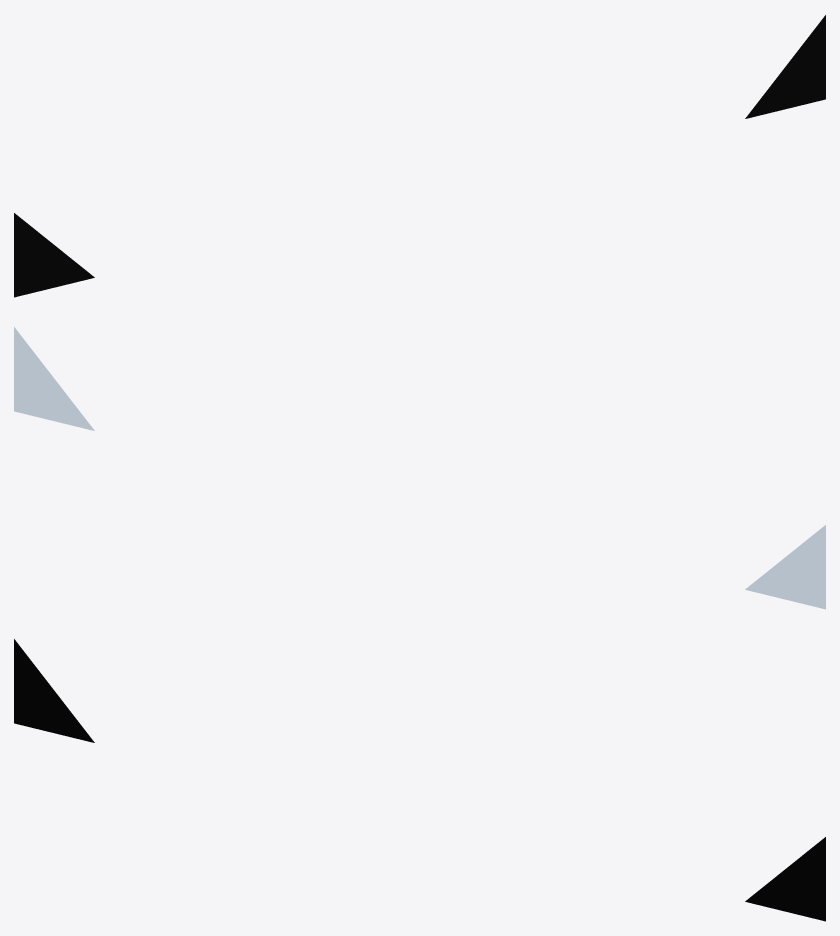
Rendered from gltf_model_cooker_fixture.gltf.
3 renders of one model, top to bottom at view 1: azimuth 30°, elevation 25°; view 2: azimuth 150°, elevation 25°; view 3: azimuth 330°, elevation 25°, orthographic.
Visible parts, largest first — view 1: Mirrored disconnected instance, Original; view 2: Mirrored disconnected instance, Original; view 3: Original, Mirrored disconnected instance.
Part boxes in pixels (left/top/right/bottom): Mirrored disconnected instance: left=745, top=15, right=825, bottom=118; Original: left=14, top=213, right=94, bottom=297; Mirrored disconnected instance: left=14, top=327, right=94, bottom=430; Original: left=745, top=525, right=825, bottom=609; Original: left=14, top=639, right=94, bottom=742; Mirrored disconnected instance: left=745, top=837, right=825, bottom=921.
Bounding box in the file's own units: 10 × 1 × 0.
2 materials, 1 textured.
